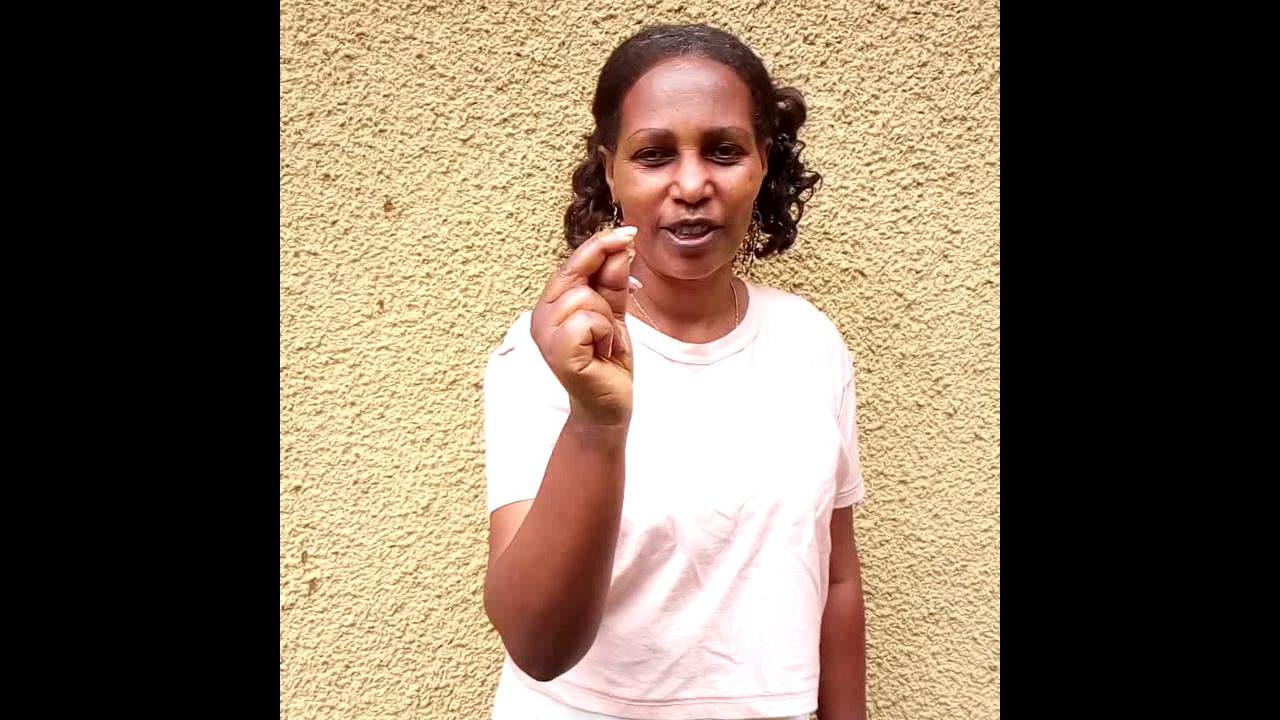CHE: (529, 227, 638, 494)
